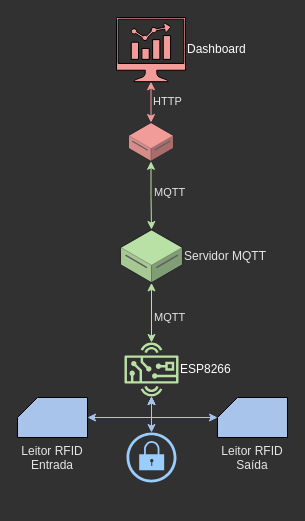
Image size: 305x521. Some labels were removed from this diagram. The shapes that lost their labels are listed below. From the top down, each one's centre as x and y in pixels, then its label:
At pixel 151 141: "Cliente MQTT Servidor backend".
At pixel 151 457: "Fechadura Elétrica".
